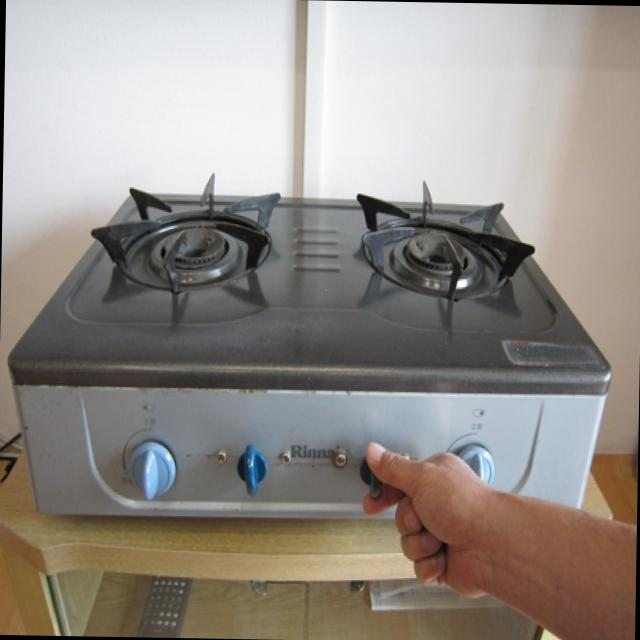knob_OFF: (62, 146, 310, 328), (334, 158, 562, 343)
